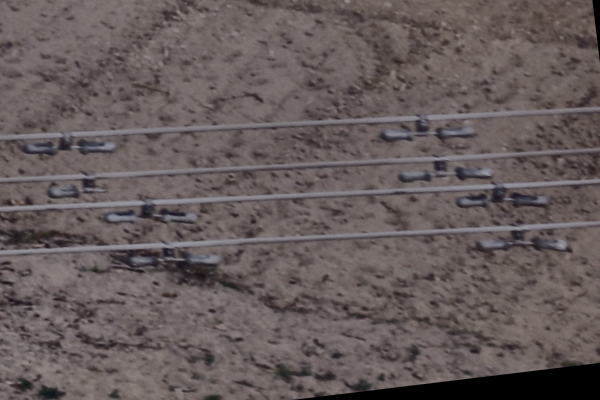damper: (474, 220, 570, 254), (378, 110, 475, 142), (397, 151, 494, 183), (103, 193, 199, 225), (123, 238, 222, 268), (454, 180, 549, 210), (19, 128, 119, 156)
damper_defect: (45, 168, 109, 200)
